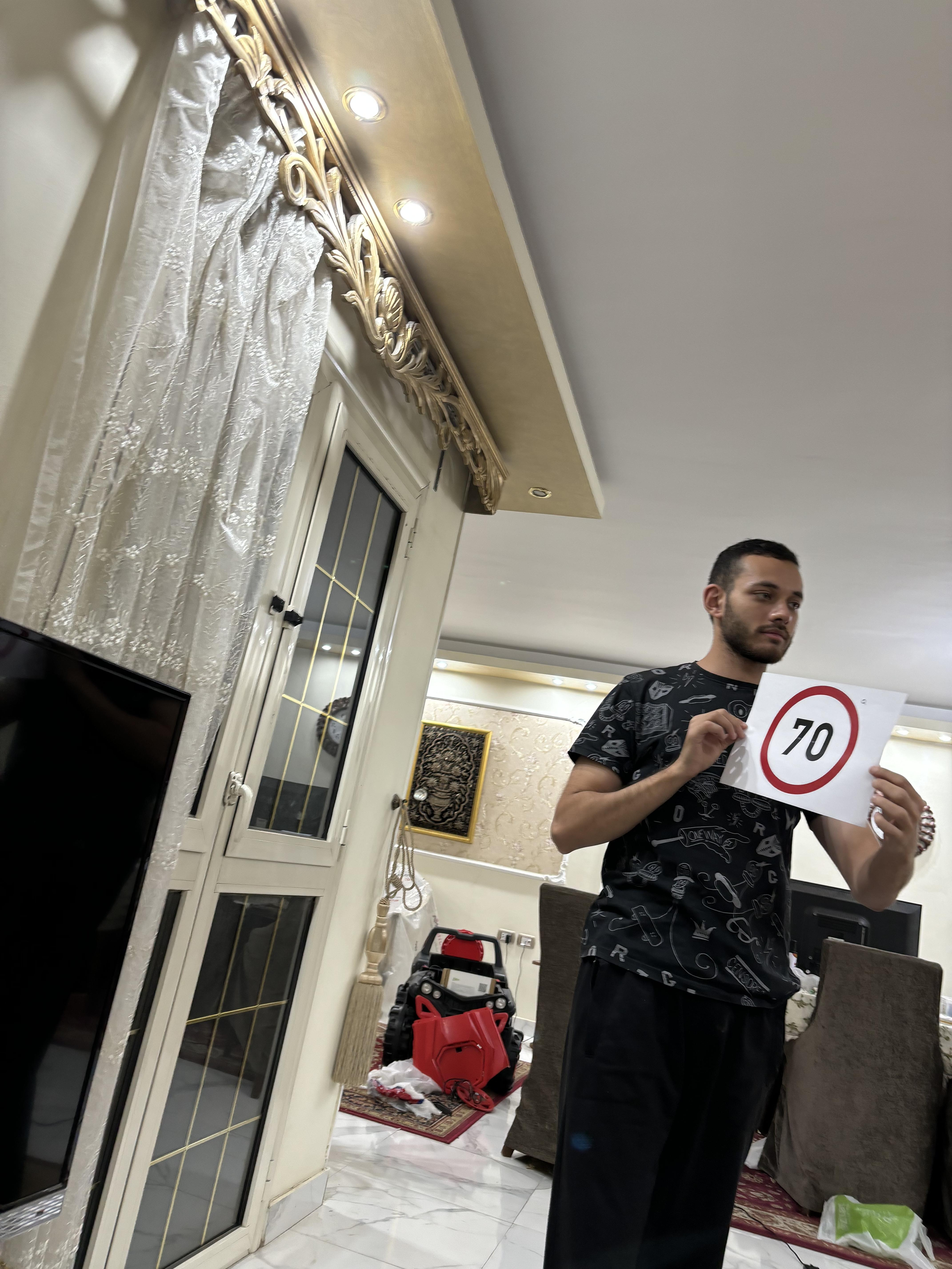70-Speed: (759, 682, 862, 798)
